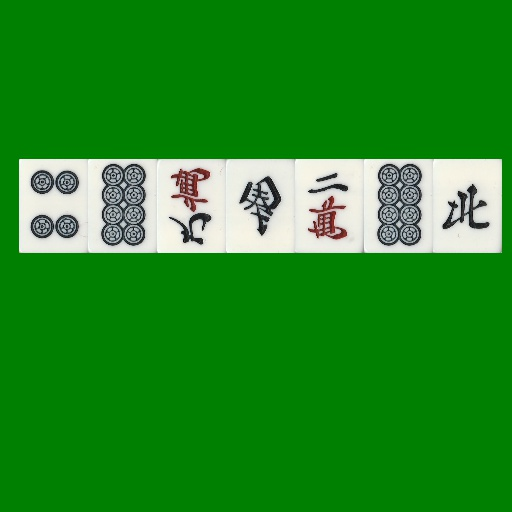2m: (295, 159, 364, 253)
4p: (19, 159, 88, 253)
8p: (88, 159, 157, 253), (364, 159, 433, 253)
9m: (157, 159, 226, 253)
north: (433, 159, 502, 253)
south: (226, 159, 295, 253)
